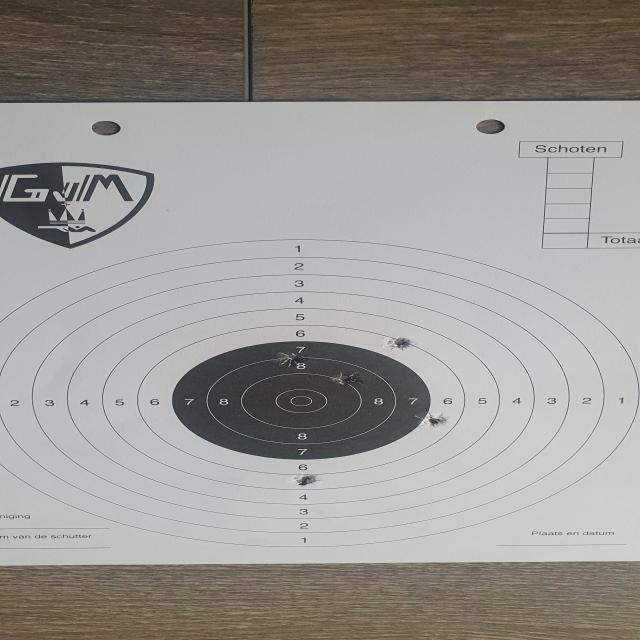6: (380, 336, 416, 352), (289, 472, 321, 487)
7: (412, 413, 452, 428)
8: (272, 352, 306, 368)
9: (331, 371, 365, 387)
Target: (0, 238, 640, 549)
black_contour: (174, 341, 431, 461)
